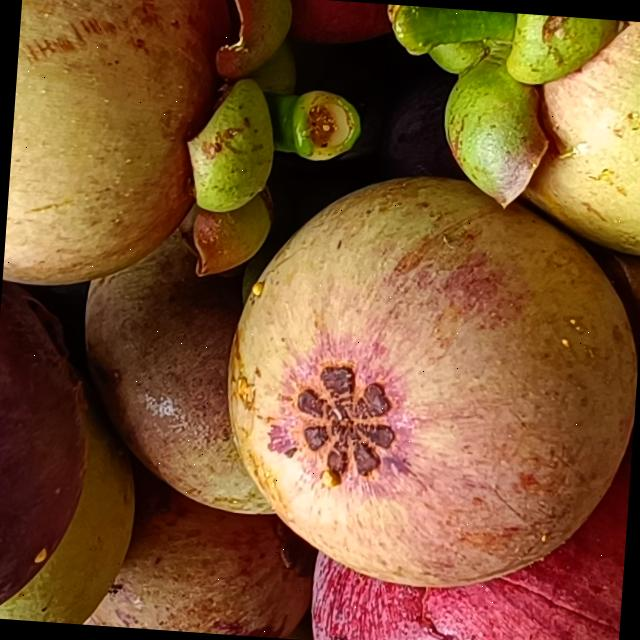mangosteen: (1, 0, 375, 319), (351, 2, 640, 283), (0, 235, 109, 624)
